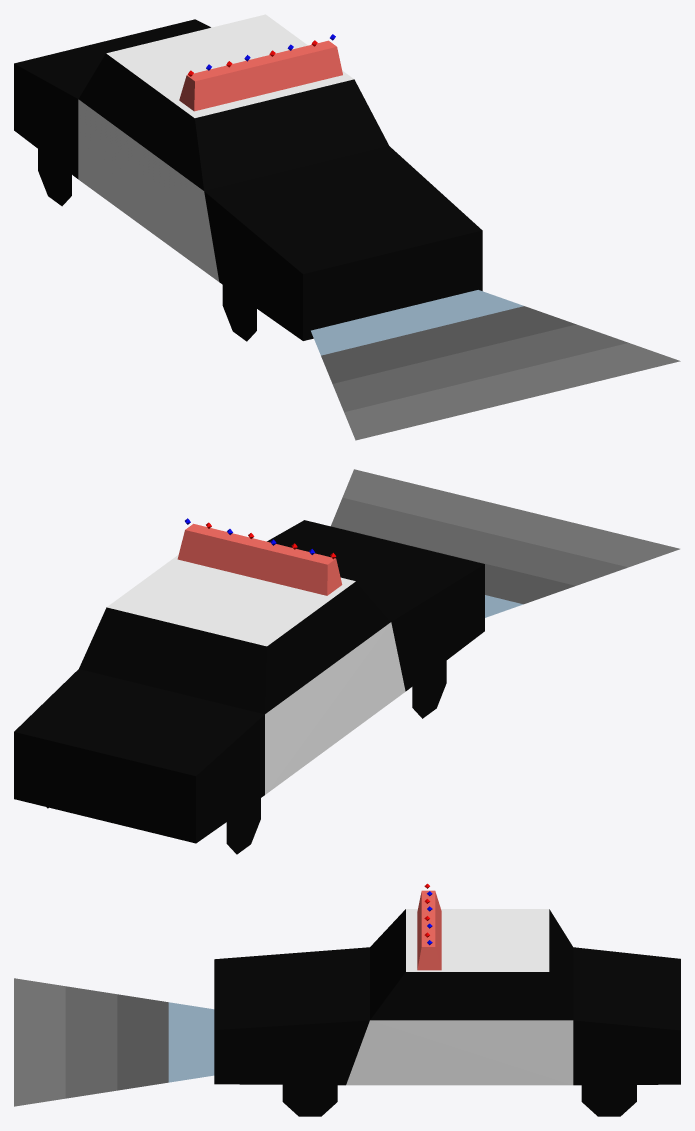
Rendered from CARPOLIC.glb.
The picture shows the model from 3 angles, top to bottom: view 1: azimuth 30°, elevation 25°; view 2: azimuth 150°, elevation 25°; view 3: azimuth 270°, elevation 25°; orthographic projection. The views are drawn at different scales.
Visible parts, largest first — view 1: CARPOLIC | archived geometry; view 2: CARPOLIC | archived geometry; view 3: CARPOLIC | archived geometry.
Boxes of the visible parts, bbox=[...] form: CARPOLIC | archived geometry: bbox=[14, 14, 680, 440]; CARPOLIC | archived geometry: bbox=[14, 469, 679, 854]; CARPOLIC | archived geometry: bbox=[14, 890, 680, 1116].
Size of the model in its own units: 3.33 by 2.03 by 7.3.
